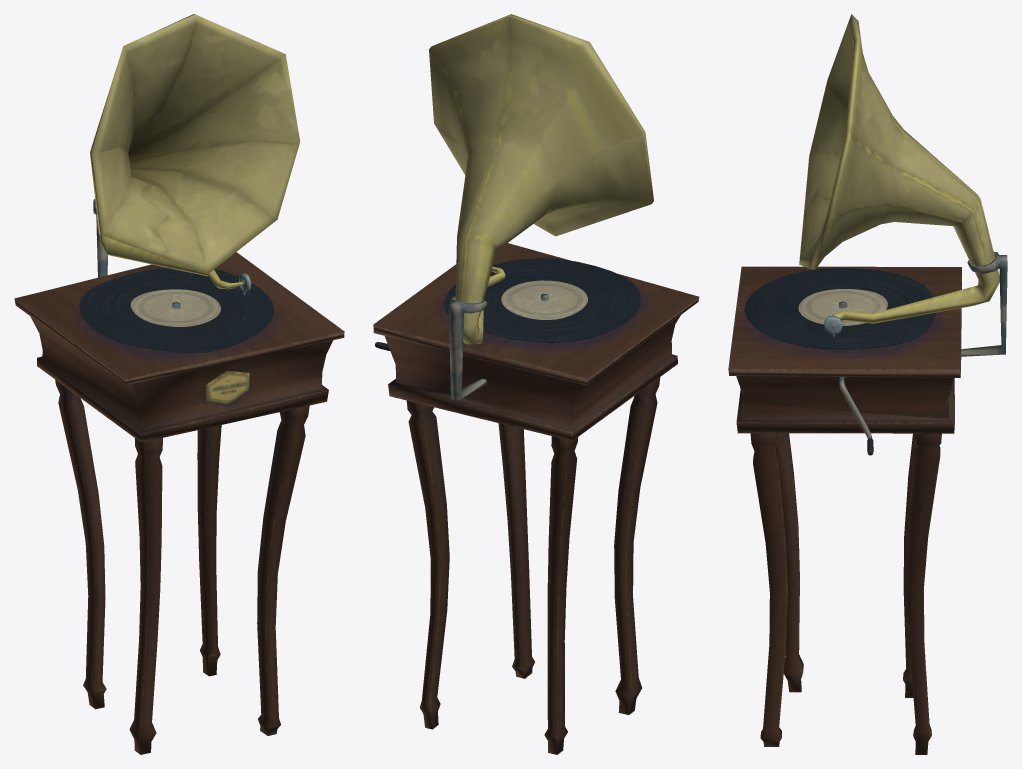
Rendered from f_Gramophone.fbx.
3 renders of one model, left to right at view 1: azimuth 30°, elevation 25°; view 2: azimuth 150°, elevation 25°; view 3: azimuth 270°, elevation 25°, orthographic.
Visible parts, largest first — view 1: f_Gramophone; view 2: f_Gramophone; view 3: f_Gramophone.
Part boxes in pixels (x1=…): f_Gramophone: x1=14, y1=14, x2=344, y2=754; f_Gramophone: x1=373, y1=14, x2=699, y2=754; f_Gramophone: x1=728, y1=14, x2=1007, y2=754.
Size of the model in its own units: 109 by 282 by 103.
